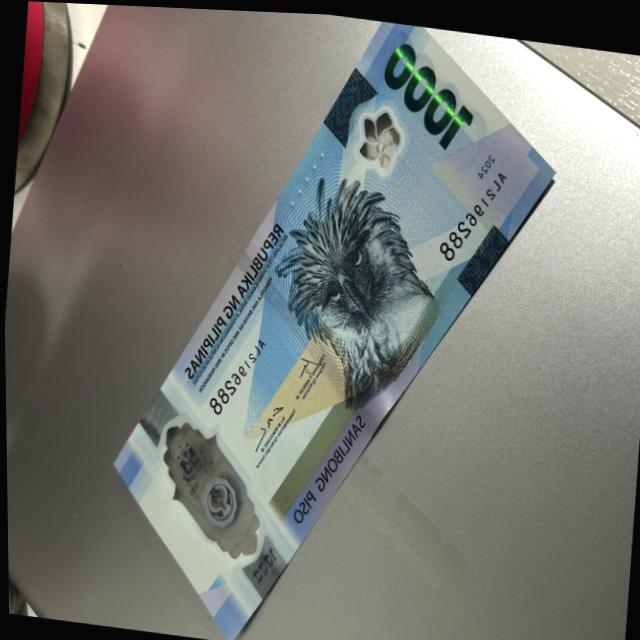clear_window: (140, 409, 264, 561)
eagle: (280, 167, 427, 409)
sampaguita: (349, 106, 403, 174)
